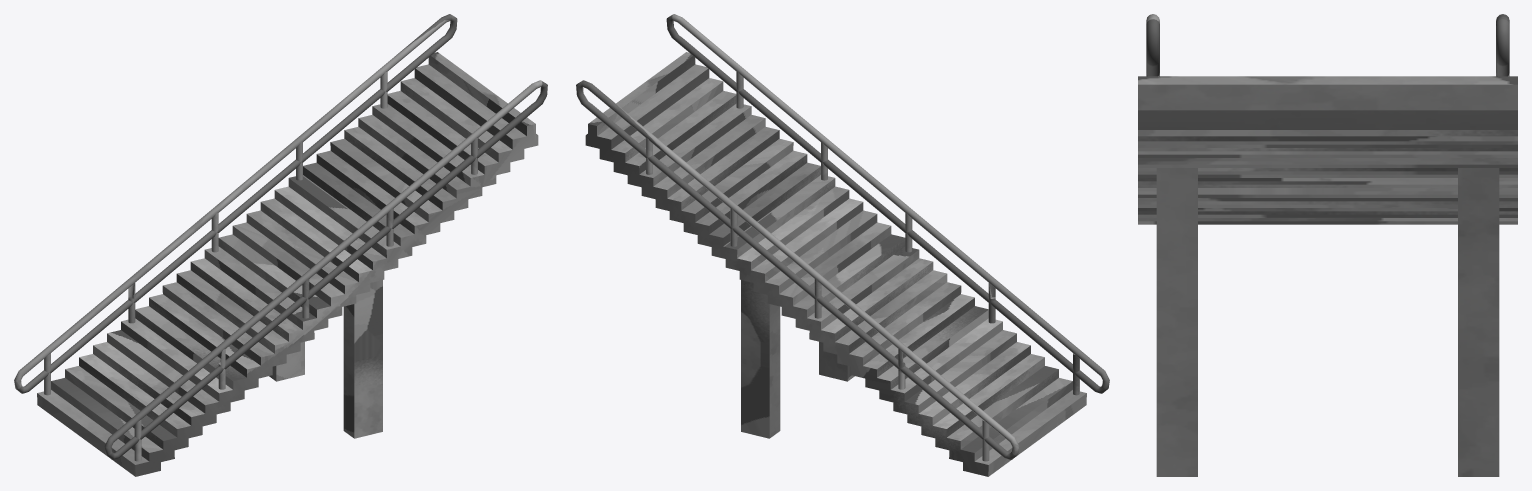
The model's file is SM_TitanicDeckStairs.fbx.
3 renders of one model, left to right at view 1: azimuth 30°, elevation 25°; view 2: azimuth 150°, elevation 25°; view 3: azimuth 270°, elevation 25°, orthographic. The views are drawn at different scales.
Parts seen in each view (by area): view 1: Cube.001; view 2: Cube.001; view 3: Cube.001.
Boxes of the visible parts, x1,y1,x2,y2 form: Cube.001: (14,14,547,476); Cube.001: (576,14,1109,476); Cube.001: (1138,14,1517,476).
Bounding box in the file's own units: 13.89 × 9.41 × 5.35.
